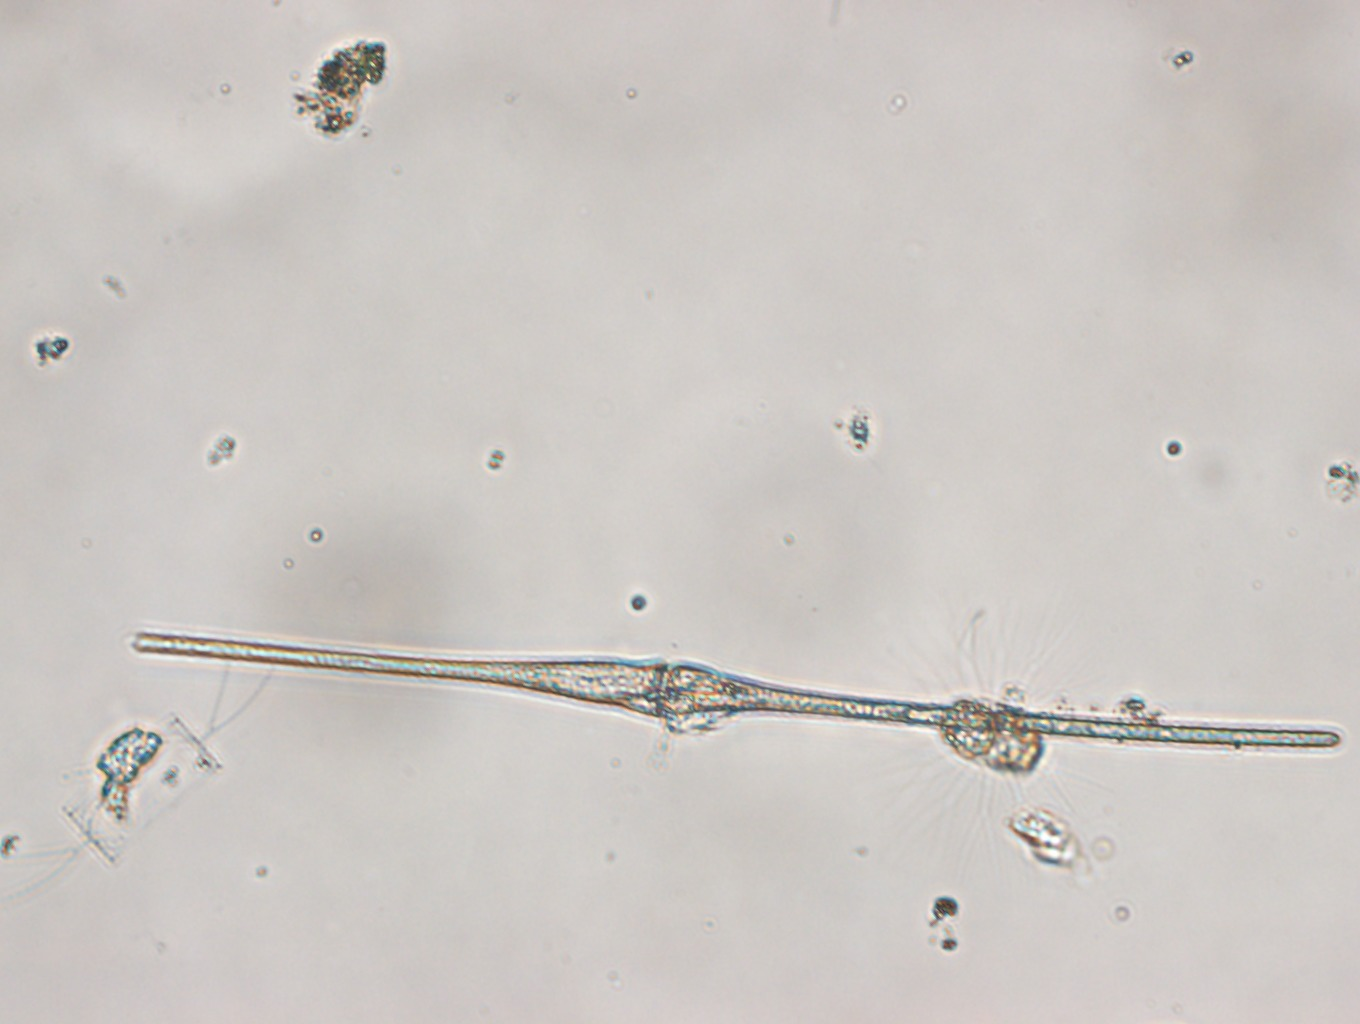ceratium fusus: (131, 630, 1343, 750)
chaetoceros: (1, 663, 274, 908)
